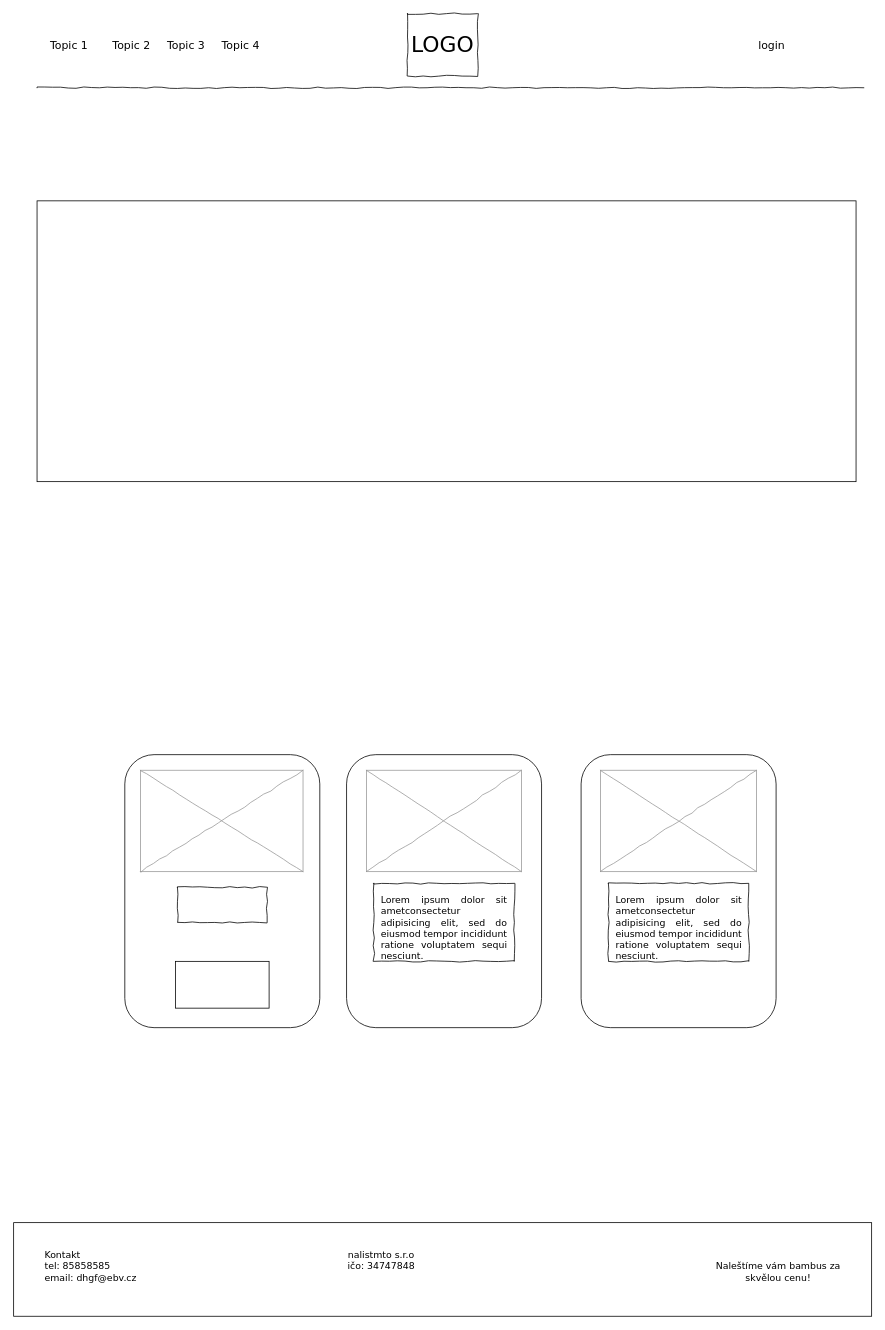
Image size: 885x1330. Some labels were removed from this diagram. The shapes that lost their labels are listed below. From the top down, each one's centre as x and y in pixels, then its label:
At [222,904]: "900KČ".
At [222,984]: "Koupit".
